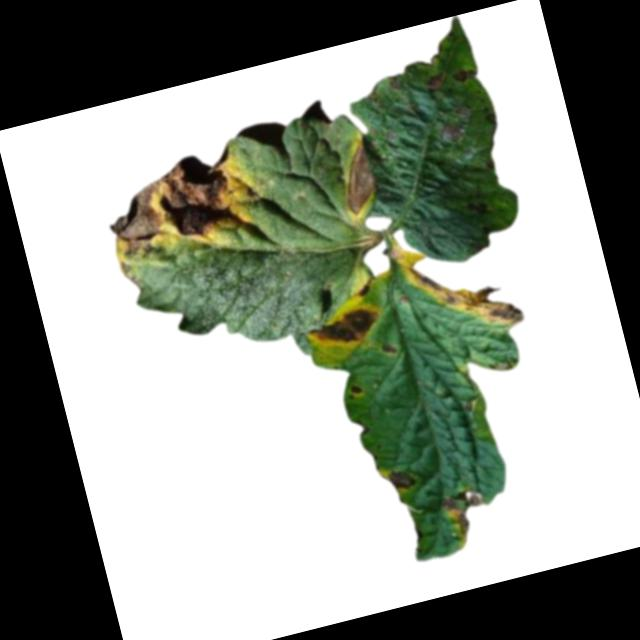Early_blight: (96, 139, 265, 264), (391, 215, 533, 350), (332, 135, 382, 217), (306, 303, 380, 354), (439, 483, 492, 542), (387, 463, 419, 492), (424, 70, 452, 93), (452, 64, 480, 82), (379, 338, 400, 358), (348, 382, 365, 396)
